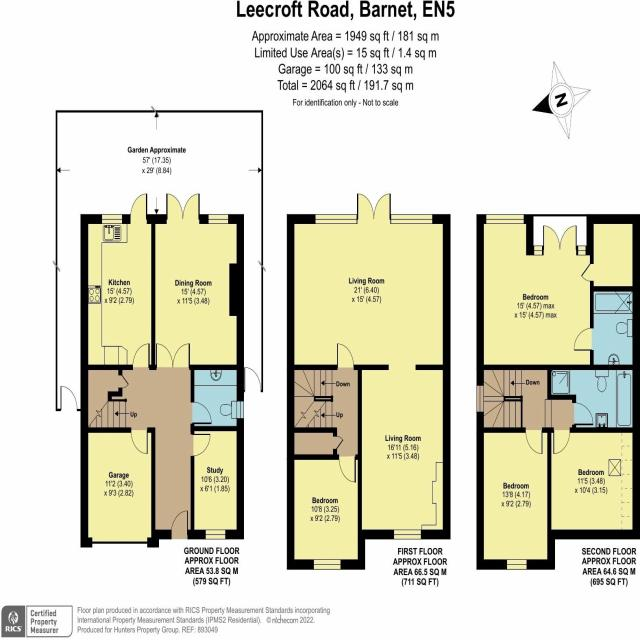DOOR: (337, 455, 356, 484), (573, 326, 594, 352), (170, 510, 188, 540), (336, 342, 355, 370), (552, 427, 571, 455), (130, 193, 147, 224), (191, 400, 212, 425), (191, 431, 211, 457), (130, 427, 148, 455), (525, 427, 543, 455), (132, 343, 150, 370)
DOUBLE DOOR: (354, 187, 394, 227), (163, 186, 204, 223), (155, 337, 193, 369)
ROOM: (286, 192, 451, 541), (475, 214, 593, 370), (150, 191, 243, 369), (80, 193, 156, 370), (476, 427, 555, 570), (547, 428, 640, 541), (286, 454, 366, 571), (190, 425, 245, 541)
WINDOW: (484, 213, 526, 225), (314, 214, 358, 225), (390, 213, 433, 224), (313, 559, 342, 570), (393, 530, 422, 541), (476, 384, 485, 413), (207, 214, 229, 225), (204, 529, 226, 540), (506, 559, 528, 570), (101, 214, 123, 224), (236, 400, 245, 419)
